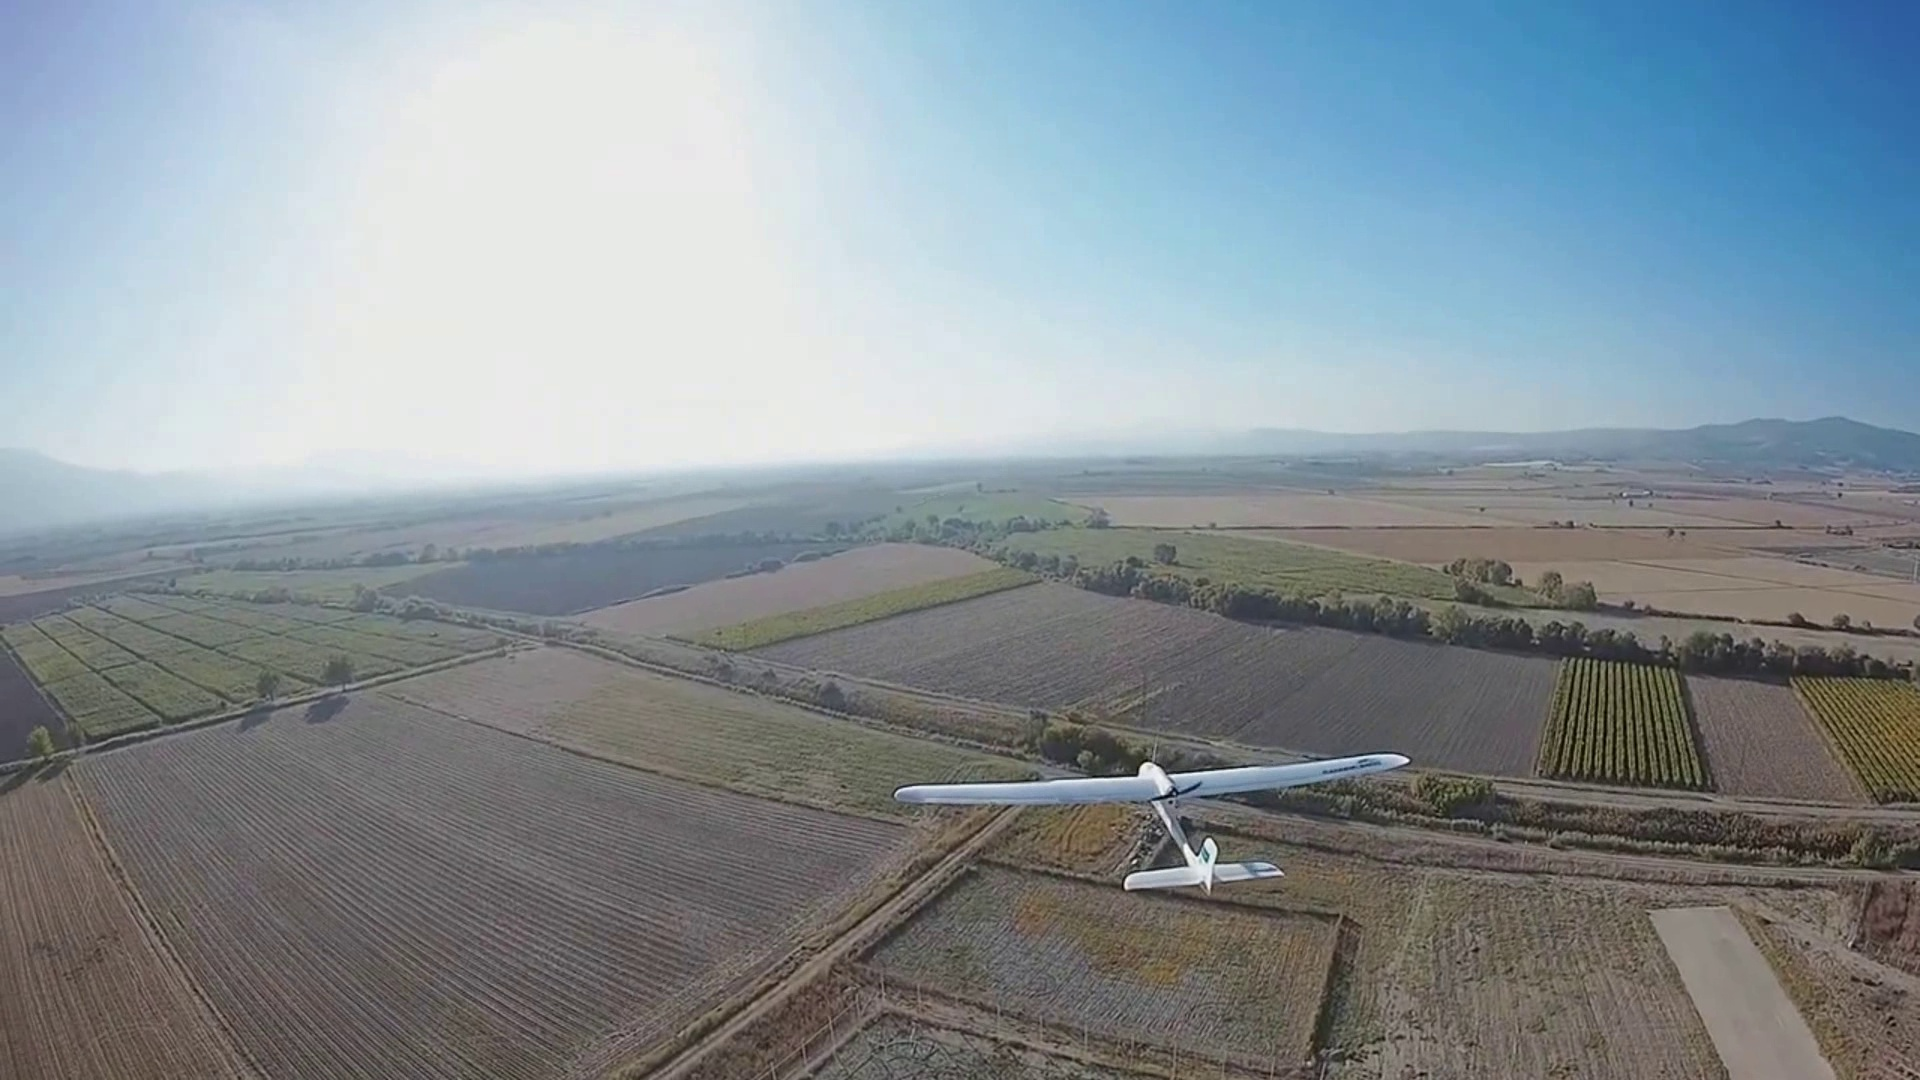airplane: (890, 749, 1411, 898)
